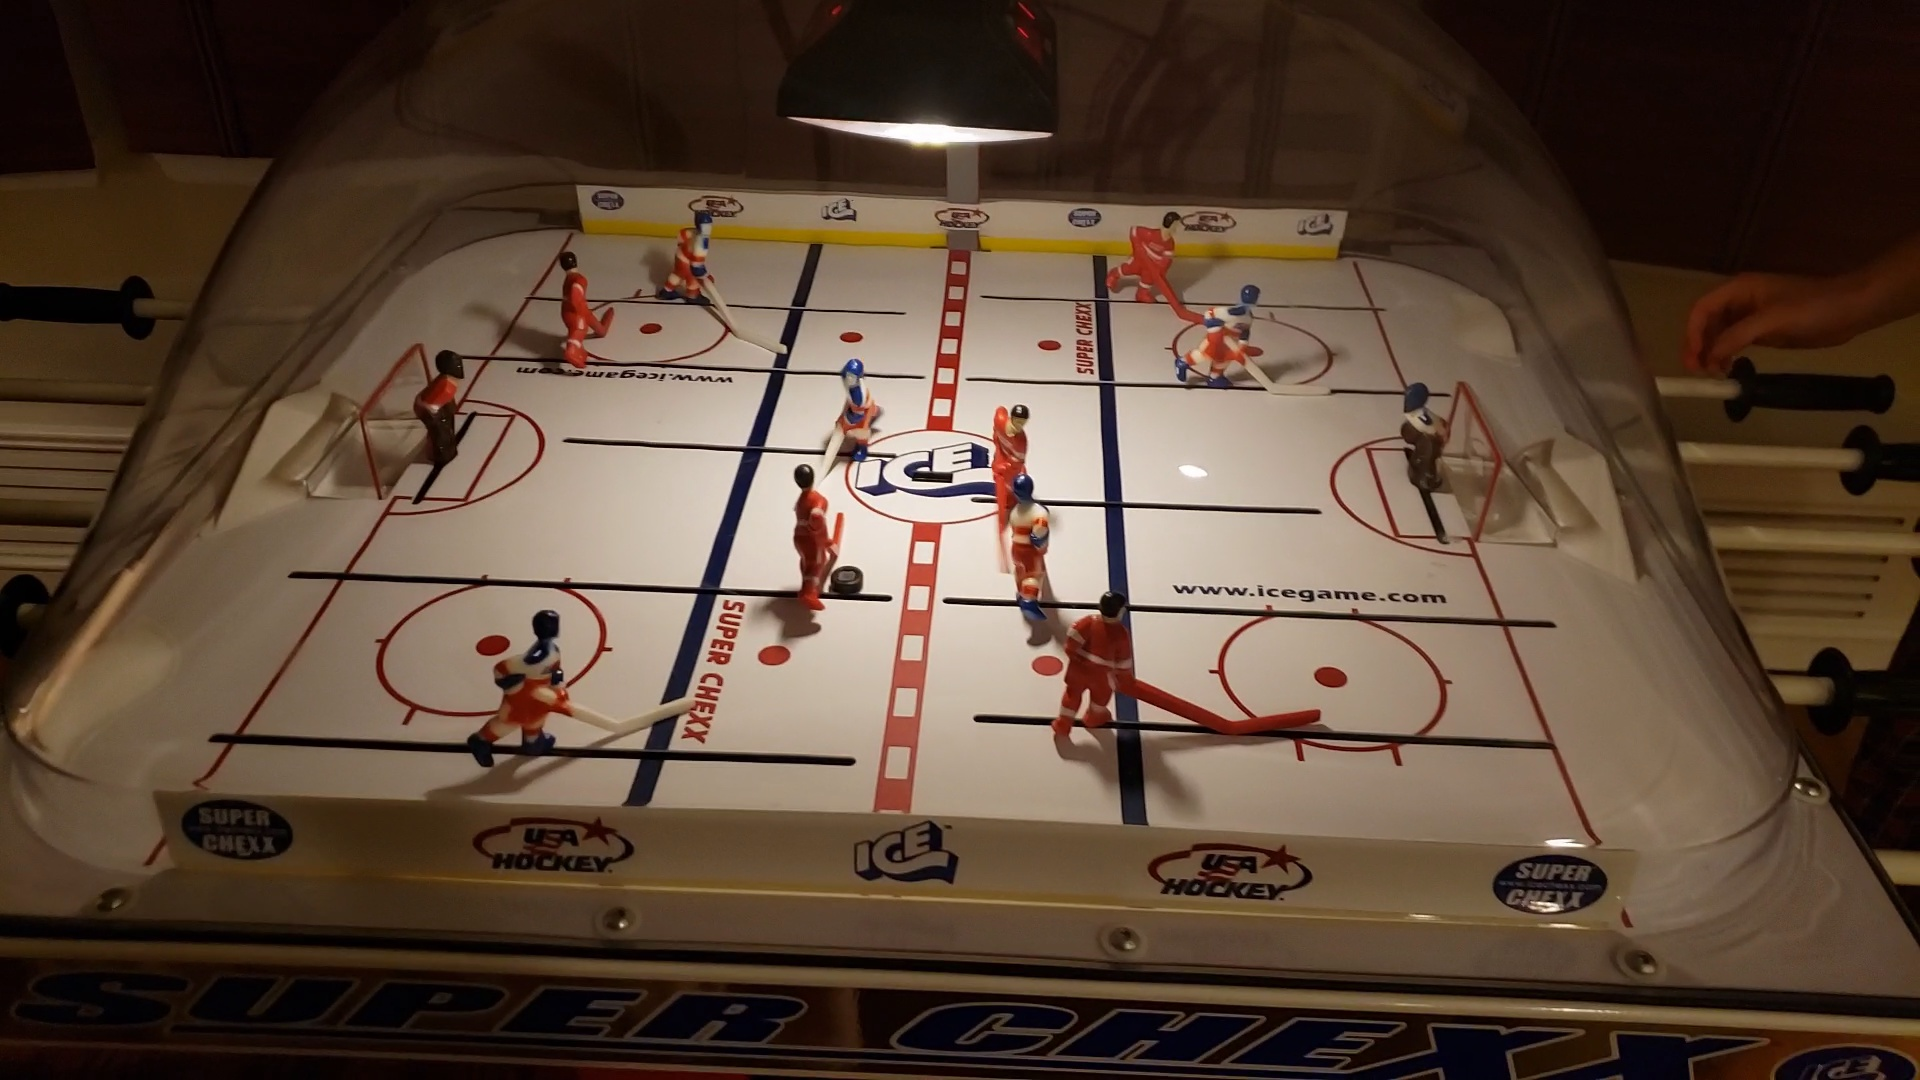puck: (829, 562, 868, 592)
